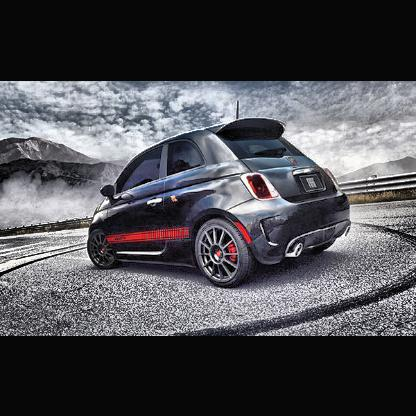FIAT 500 Abarth 2012: (88, 102, 352, 289)
